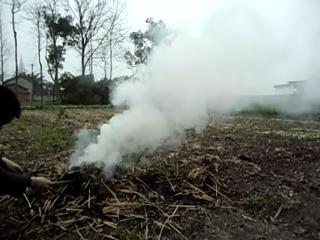smoke: (72, 12, 276, 167)
